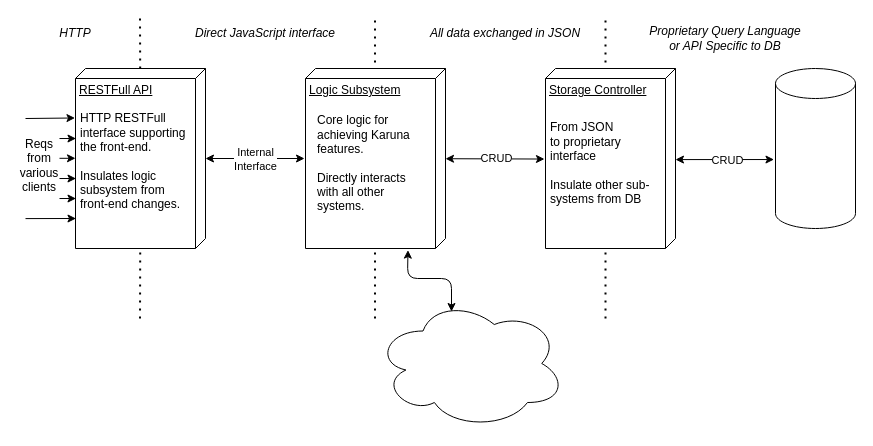
Image size: 873x446. Some labels were removed from this diagram. Each missing label, with the centre of its shape:
"3rd Party NLP and Machine Learning Services" belongs at point 470,363.
"Database" belongs at point 815,148.
